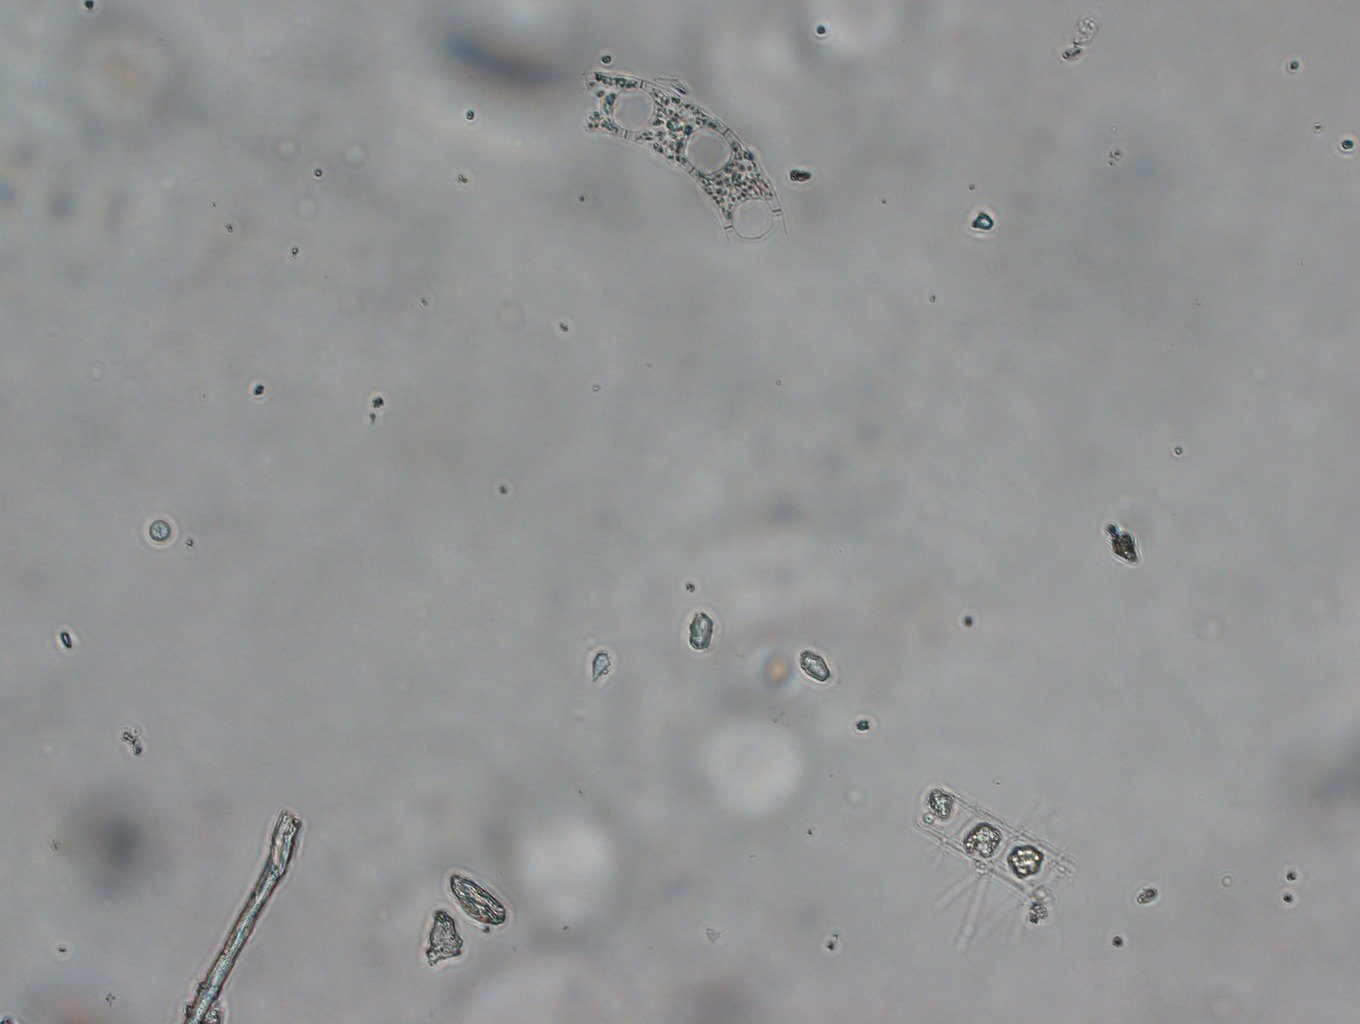chaetoceros: (904, 781, 1100, 954)
eucampia: (564, 62, 796, 271)
